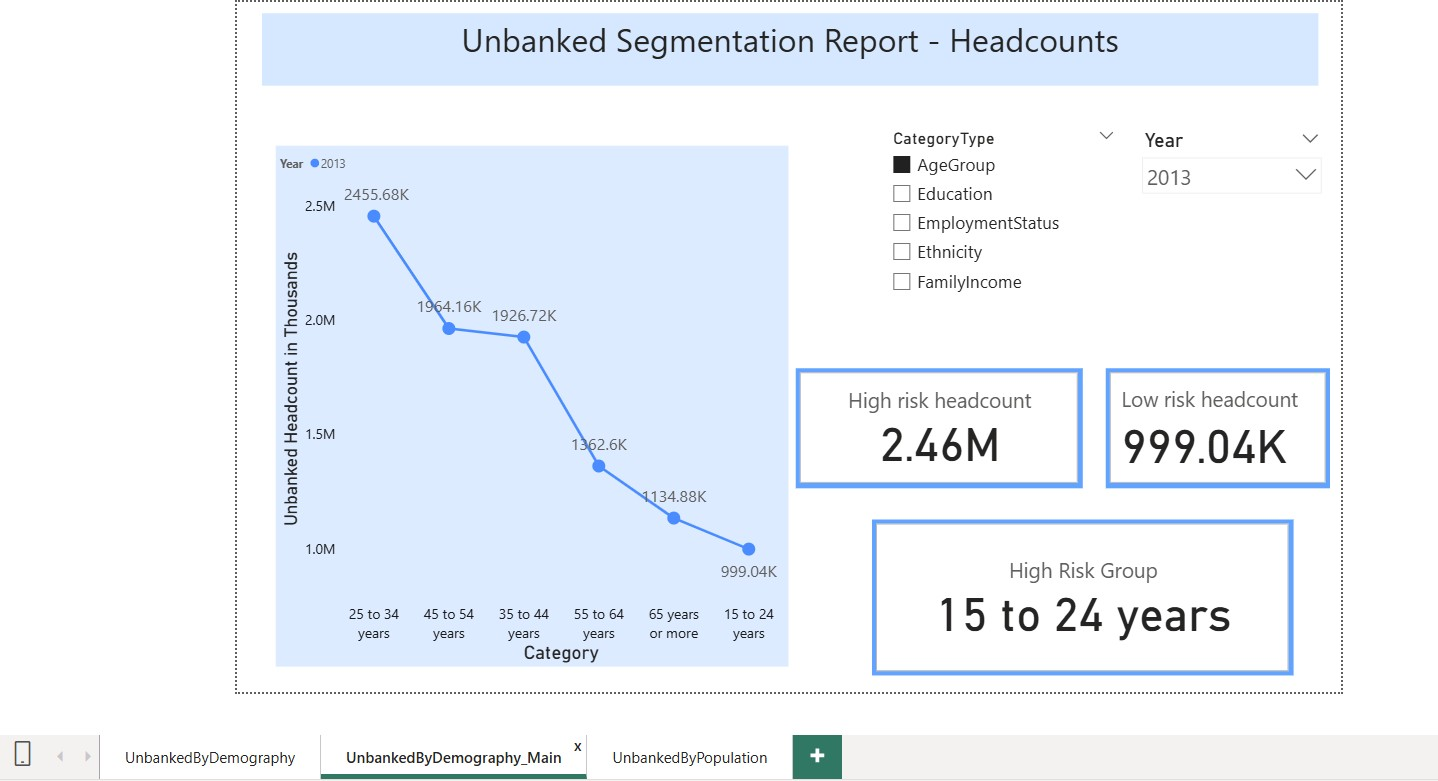

The page's visual inventory and layout, read from the dashboard file:
{"tool":"powerbi","page":{"name":"UnbankedByDemography_Main","canvas":[1280,800],"ordinal":1},"visuals":[{"type":"slicer","fields":{"Values":["DimCategory.CategoryType"]},"box":[748.3,142.2,281.2,219.8],"z":0},{"type":"lineChart","fields":{"Category":["DimCategory.CategoryValue"],"Y":["Sum(UnbankedPCTView.Unbanked_Headcount)"],"Series":["DimYear.Year"]},"box":[45.6,166.8,594.4,604.4],"z":1000},{"type":"slicer","fields":{"Values":["DimYear.Year"]},"box":[1039.1,142.5,228.1,191],"z":2000},{"type":"cardVisual","fields":{"Data":["UnbankedPCTView.High risk headcount"]},"box":[648.1,425.1,332.9,139],"z":3000},{"type":"cardVisual","fields":{"Data":["UnbankedPCTView.Low risk headcount"]},"box":[1006.9,425.1,260.2,139],"z":4000},{"type":"cardVisual","fields":{"Data":["FactUnbankedHouseholds.High Risk Group"]},"box":[736.9,600.1,488.9,181],"z":5000},{"type":"textbox","box":[29.1,12.9,1225.1,84],"z":6000}]}

Visuals, with their boxes on the page's 1280x800 design canvas (x1, y1, x2, y2). These are canvas units, not pixel positions in the 1438x781 screenshot, which may show the page scaled, cropped or inside an application window:
slicer - DimCategory.CategoryType: 748, 142, 1030, 362
lineChart - DimCategory.CategoryValue x Sum(UnbankedPCTView.Unbanked_Headcount): 46, 167, 640, 771
slicer - DimYear.Year: 1039, 142, 1267, 334
cardVisual - UnbankedPCTView.High risk headcount: 648, 425, 981, 564
cardVisual - UnbankedPCTView.Low risk headcount: 1007, 425, 1267, 564
cardVisual - FactUnbankedHouseholds.High Risk Group: 737, 600, 1226, 781
textbox: 29, 13, 1254, 97
